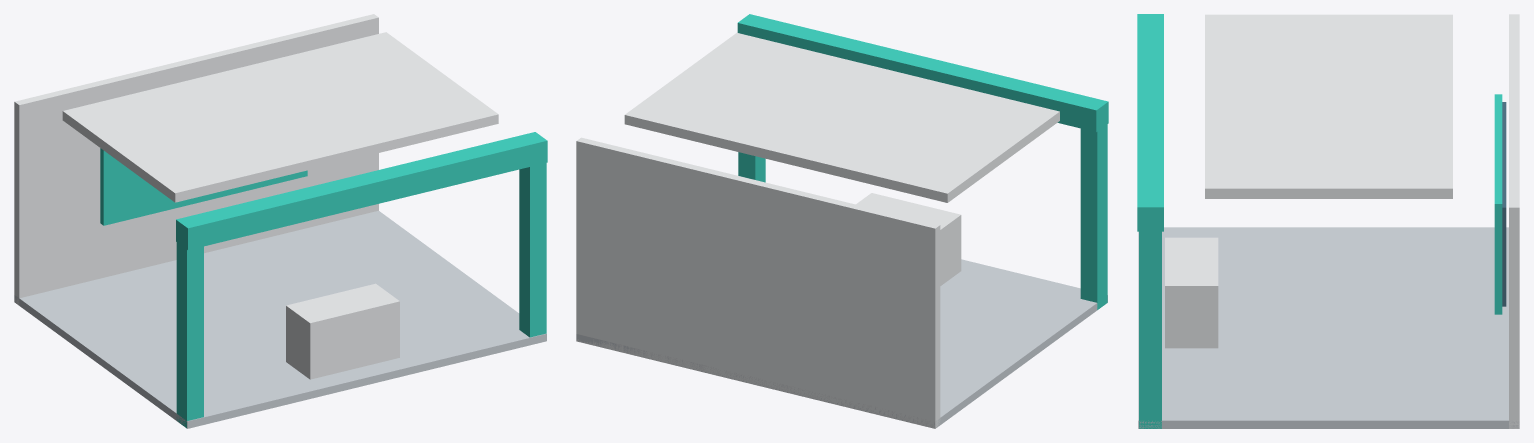
The picture shows the model from 3 angles, left to right: view 1: azimuth 30°, elevation 25°; view 2: azimuth 150°, elevation 25°; view 3: azimuth 270°, elevation 25°; orthographic projection. The views are drawn at different scales.
Visible parts, largest first — view 1: Exhibition Booth Concept; view 2: Exhibition Booth Concept; view 3: Exhibition Booth Concept.
Part boxes in pixels (left/top/right/bottom): Exhibition Booth Concept: left=14, top=14, right=547, bottom=428; Exhibition Booth Concept: left=576, top=14, right=1108, bottom=428; Exhibition Booth Concept: left=1137, top=14, right=1519, bottom=428.
Size of the model in its own units: 6 by 3.34 by 5.02.
